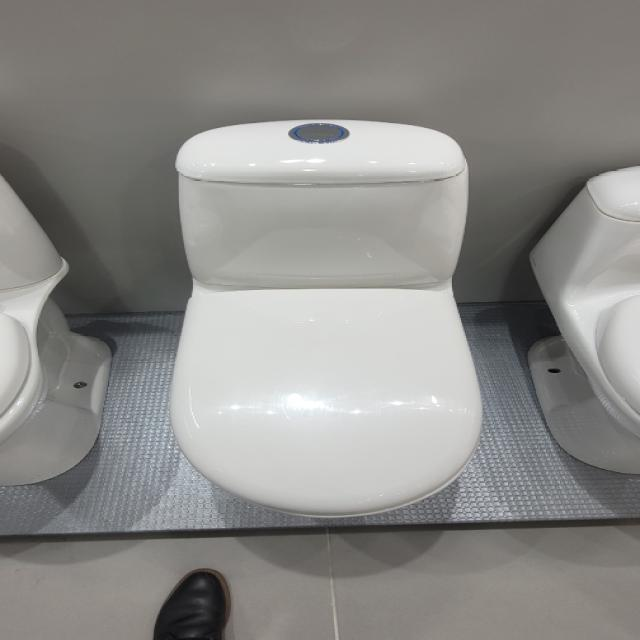toilet: (162, 114, 492, 516)
